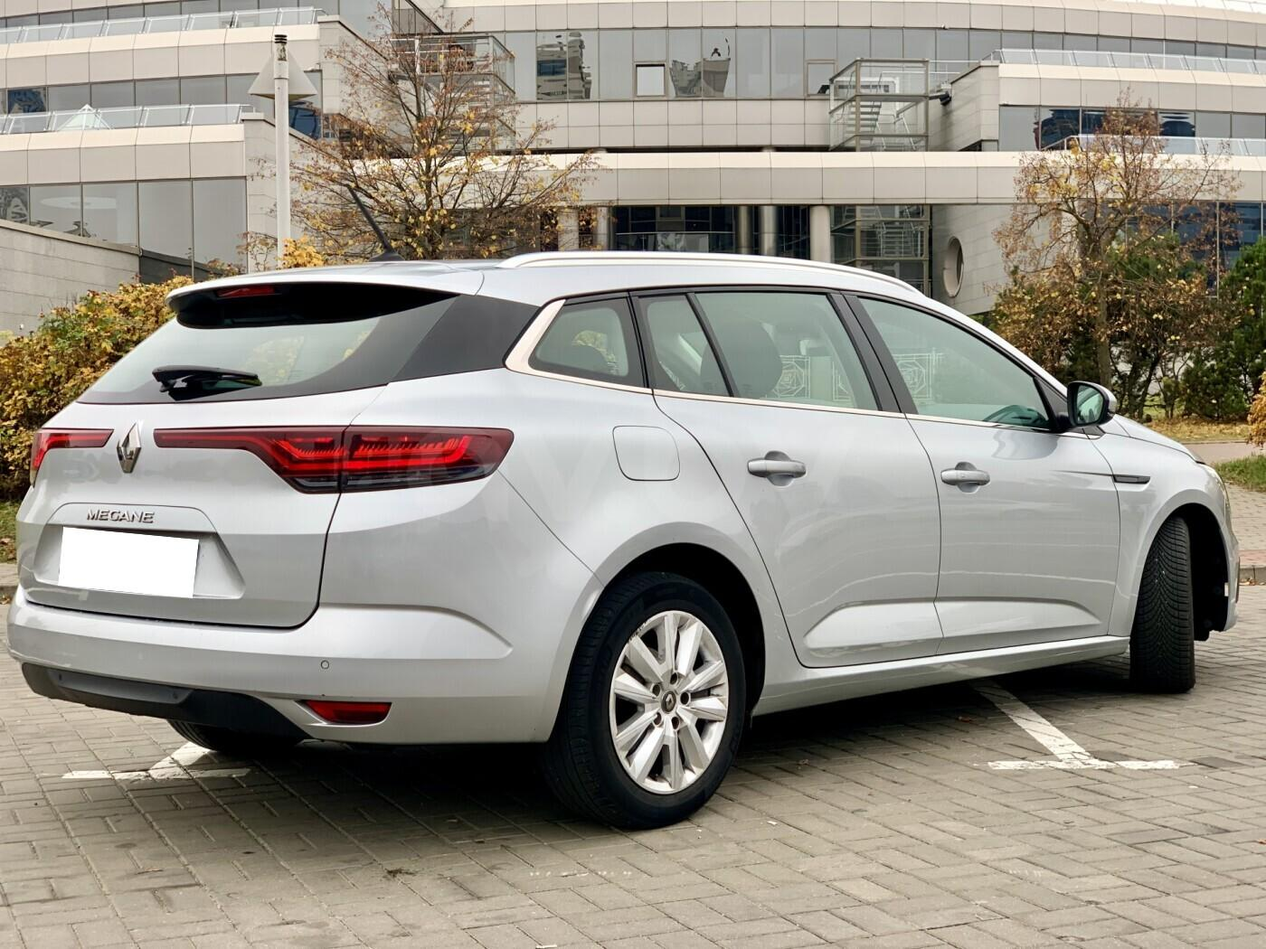Megane_2020: (10, 249, 1231, 811)
